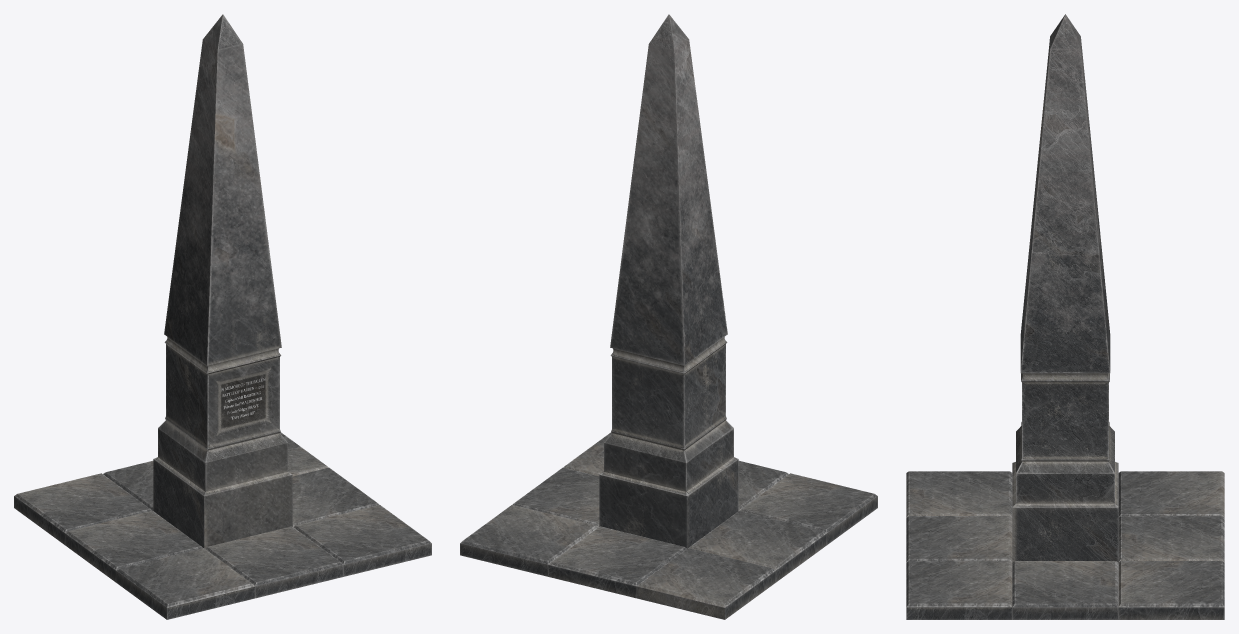
Rendered from Monolit.fbx.
The picture shows the model from 3 angles, left to right: view 1: azimuth 30°, elevation 25°; view 2: azimuth 150°, elevation 25°; view 3: azimuth 270°, elevation 25°; orthographic projection. The views are drawn at different scales.
Parts seen in each view (by area): view 1: Cube, Cube.008, Cube.015, Cube.014, Cube.002, Cube.005, Cube.013, Cube.010, Cube.011; view 2: Cube, Cube.005, Cube.010, Cube.011, Cube.002, Cube.008, Cube.013, Cube.015, Cube.014; view 3: Cube, Cube.011, Cube.013, Cube.014, Cube.005, Cube.008, Cube.010, Cube.015.
Part boxes in pixels (x1,y1,x2,y2): Cube: [153, 14, 292, 548]; Cube.008: [116, 548, 255, 619]; Cube.015: [205, 526, 343, 598]; Cube.014: [293, 505, 431, 576]; Cube.002: [65, 510, 202, 582]; Cube.005: [14, 473, 151, 544]; Cube.013: [292, 467, 379, 526]; Cube.010: [103, 460, 153, 510]; Cube.011: [280, 432, 328, 476]; Cube: [599, 14, 738, 548]; Cube.005: [636, 548, 775, 619]; Cube.010: [548, 526, 686, 598]; Cube.011: [460, 505, 598, 576]; Cube.002: [689, 510, 826, 582]; Cube.008: [740, 473, 877, 544]; Cube.013: [512, 467, 599, 526]; Cube.015: [738, 460, 788, 510]; Cube.014: [563, 432, 611, 476]; Cube: [1012, 14, 1118, 562]; Cube.011: [1118, 561, 1224, 619]; Cube.013: [1012, 561, 1118, 619]; Cube.014: [906, 561, 1012, 619]; Cube.005: [1118, 471, 1224, 517]; Cube.008: [906, 471, 1012, 517]; Cube.010: [1118, 516, 1224, 562]; Cube.015: [906, 516, 1012, 562].
Bounding box in the file's own units: 220 × 411 × 220.
